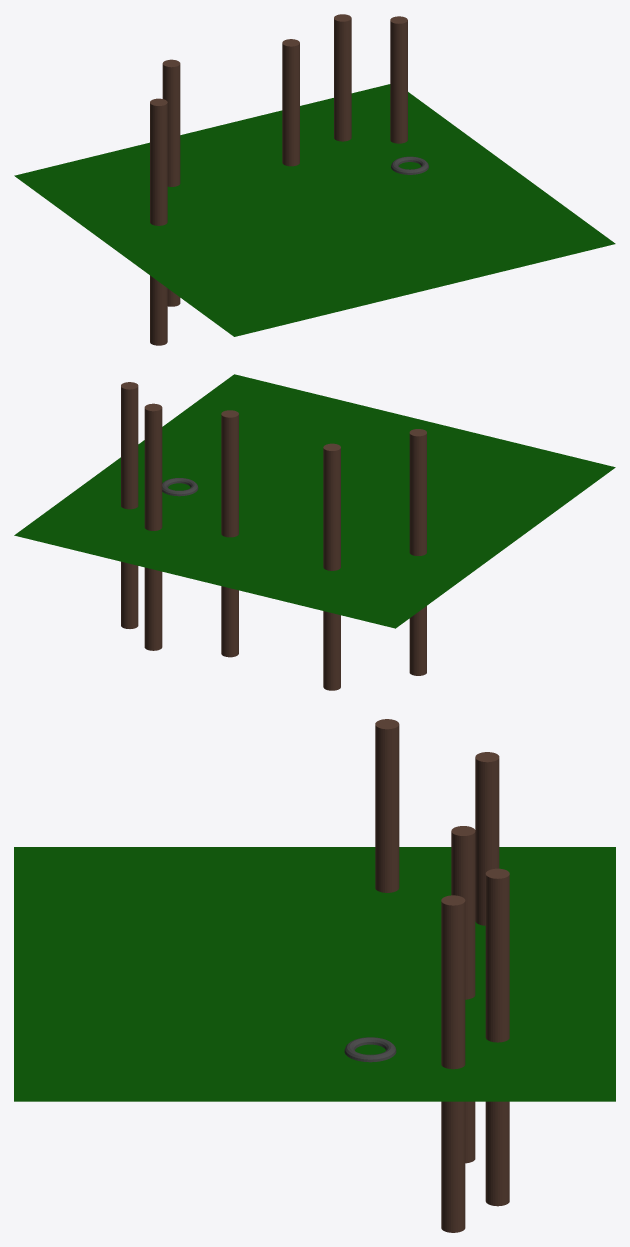
The model's file is NormalGeoScene.gltf.
3 renders of one model, top to bottom at view 1: azimuth 30°, elevation 25°; view 2: azimuth 150°, elevation 25°; view 3: azimuth 270°, elevation 25°, orthographic. The views are drawn at different scales.
Visible parts, largest first — view 1: Torus; view 2: Torus; view 3: Torus.
Boxes of the visible parts, box(x1,y1,x2,y2) form: Torus: box(14, 14, 615, 345); Torus: box(14, 374, 615, 690); Torus: box(14, 719, 615, 1232).
Size of the model in its own units: 115 by 69.08 by 115.
Materials: 1 (1 with a texture image).
